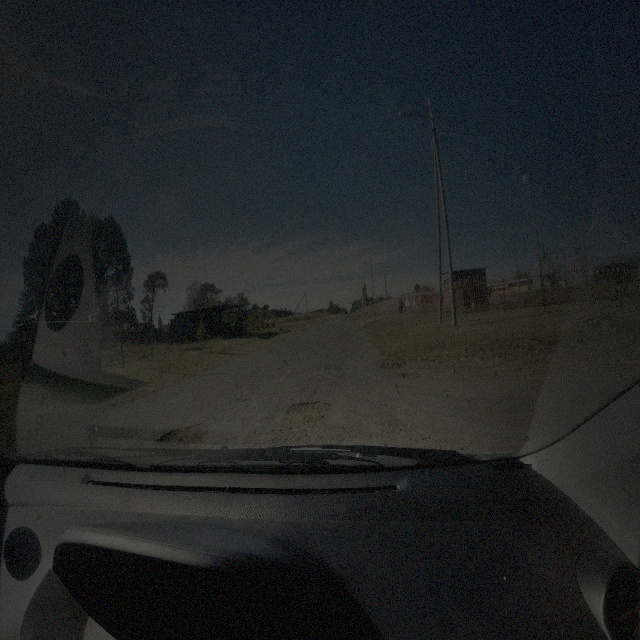pothole: (156, 421, 208, 446), (284, 397, 332, 423)
